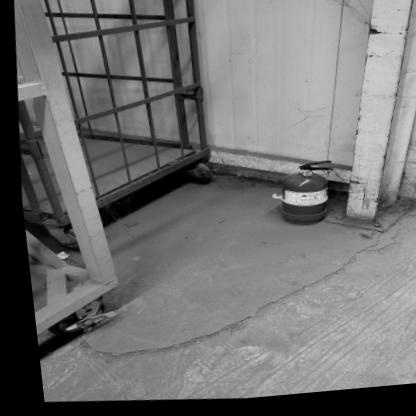FE: (272, 162, 329, 233)
